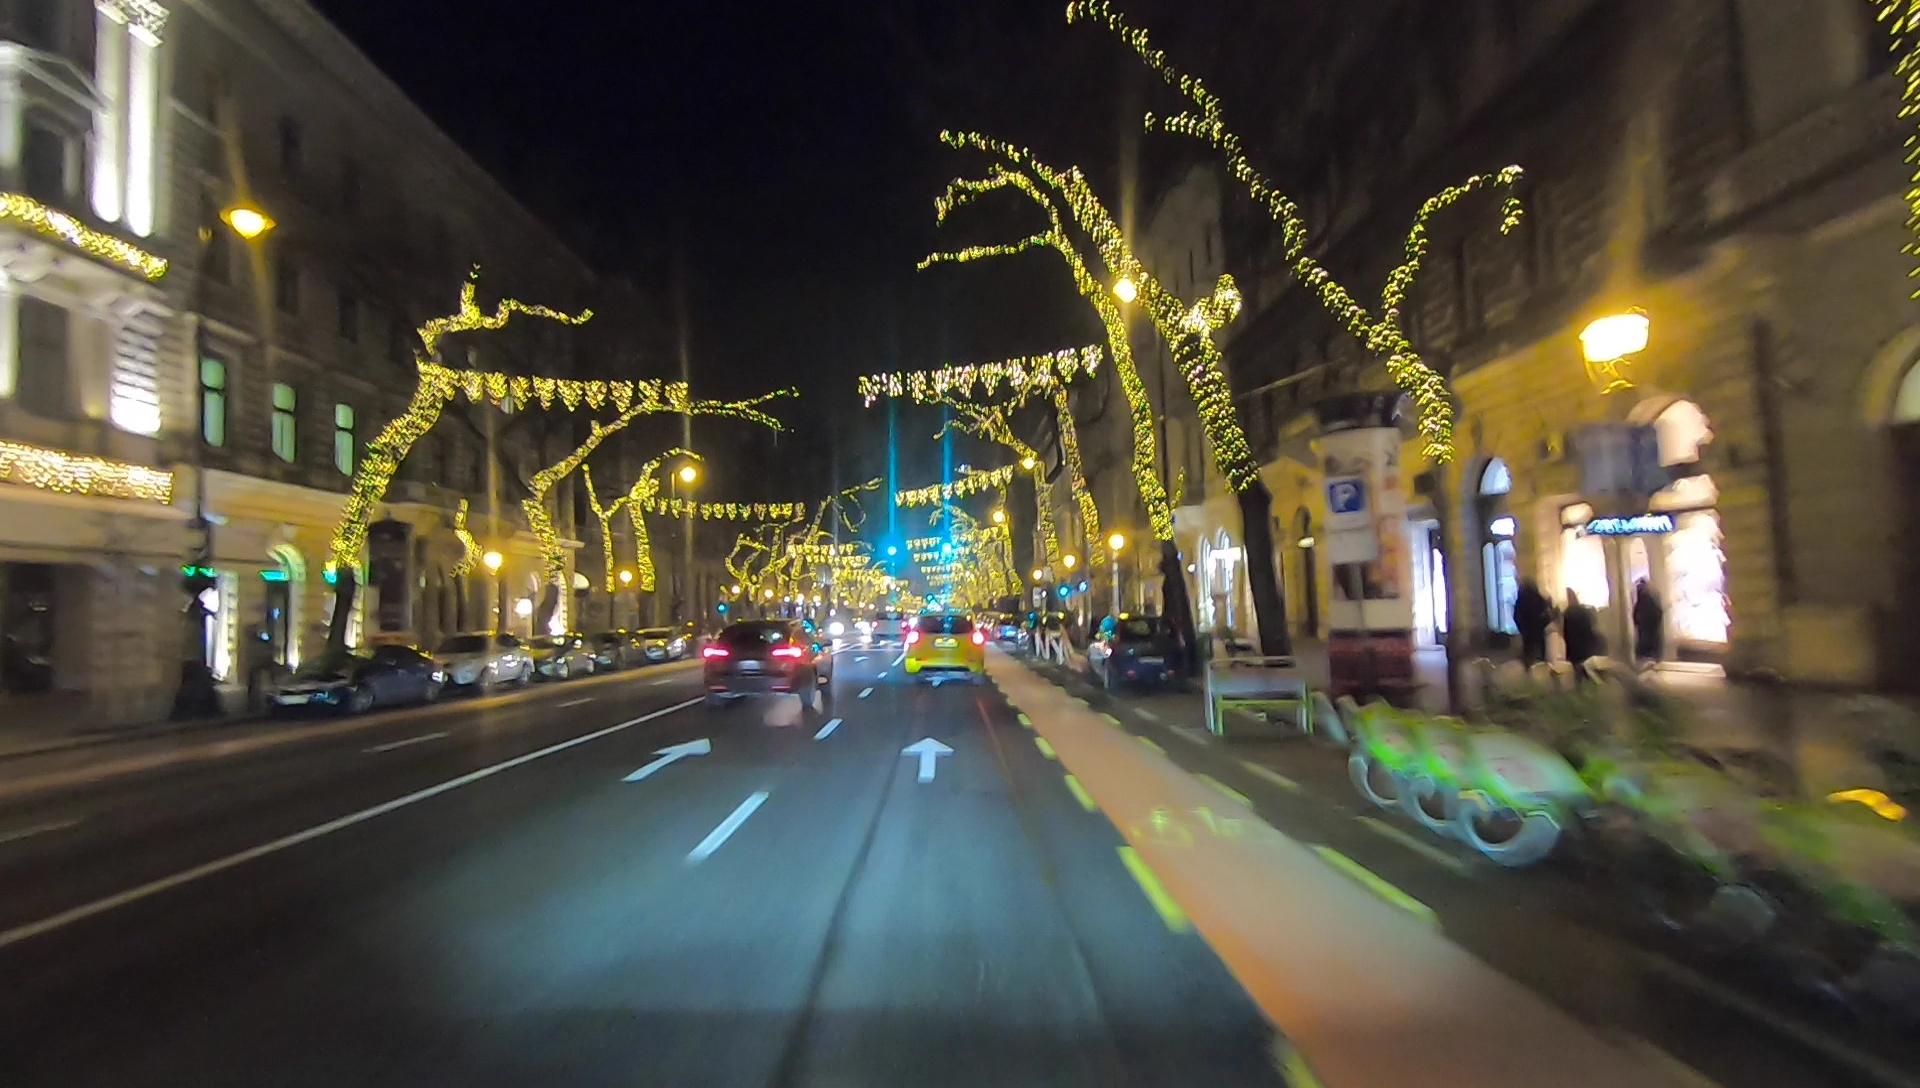person: (1504, 580, 1552, 673), (1560, 591, 1602, 682), (1628, 580, 1660, 665)
